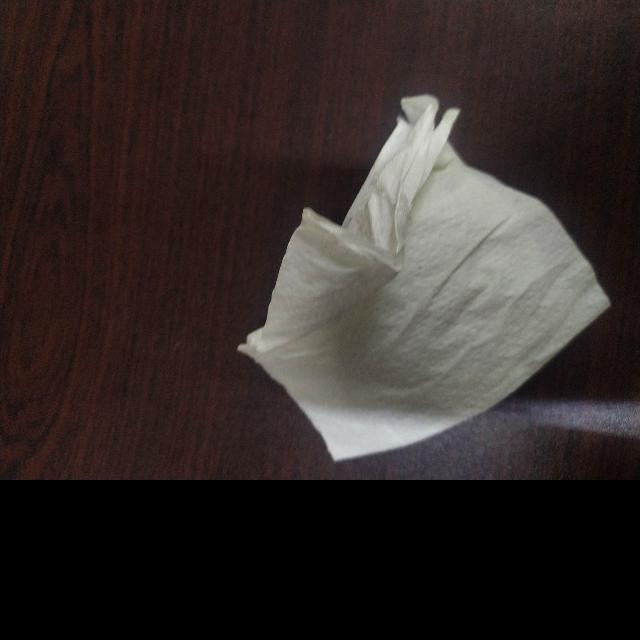kitchen paper: (228, 79, 622, 470)
